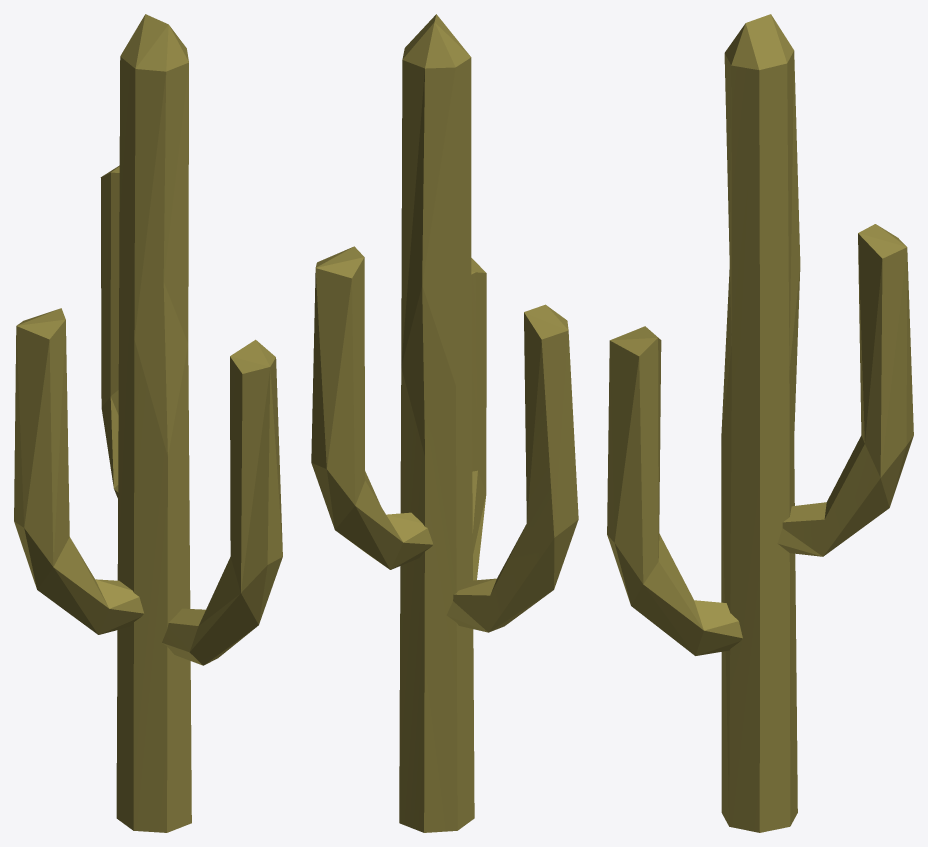
The model's file is cactus1.fbx.
3 views of the same model, side by side, from view 1: azimuth 30°, elevation 25°; view 2: azimuth 150°, elevation 25°; view 3: azimuth 270°, elevation 25° (orthographic).
Parts seen in each view (by area): view 1: cactus1_mesh; view 2: cactus1_mesh; view 3: cactus1_mesh.
Part boxes in pixels (bbox=[...]): cactus1_mesh: bbox=[14, 14, 282, 832]; cactus1_mesh: bbox=[311, 14, 578, 832]; cactus1_mesh: bbox=[607, 14, 913, 832].
Bounding box in the file's own units: 422 × 1636 × 568.
